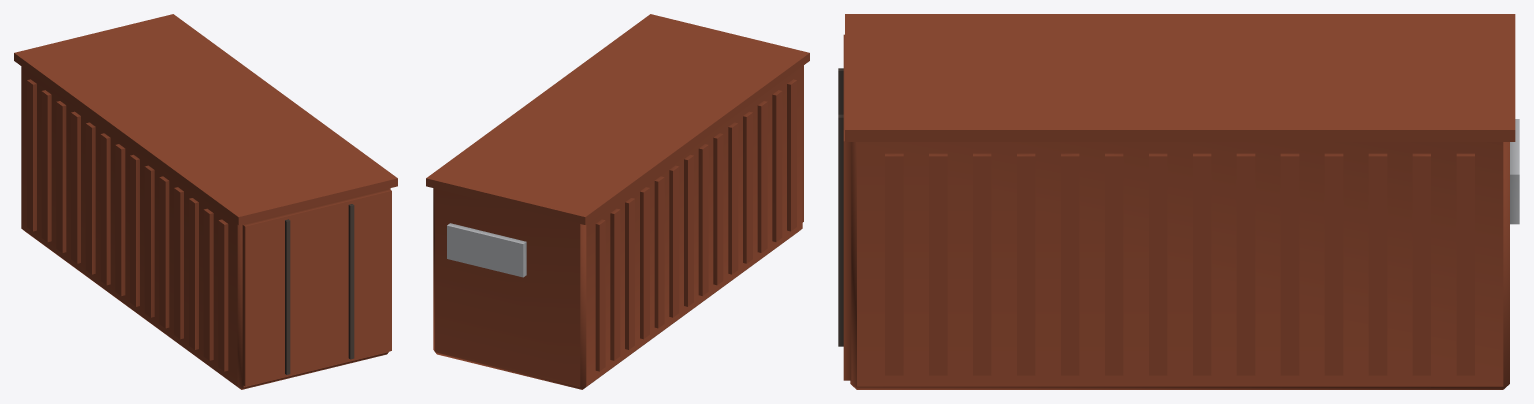
Rendered from sv_container.glb.
3 renders of one model, left to right at view 1: azimuth 30°, elevation 25°; view 2: azimuth 150°, elevation 25°; view 3: azimuth 270°, elevation 25°, orthographic. The views are drawn at different scales.
Parts seen in each view (by area): view 1: body; view 2: body; view 3: body.
Part boxes in pixels (x1=…): body: x1=14, y1=14, x2=397, y2=389; body: x1=426, y1=14, x2=809, y2=389; body: x1=838, y1=14, x2=1519, y2=389.
Bounding box in the file's own units: 2.52 × 2.66 × 6.2.
